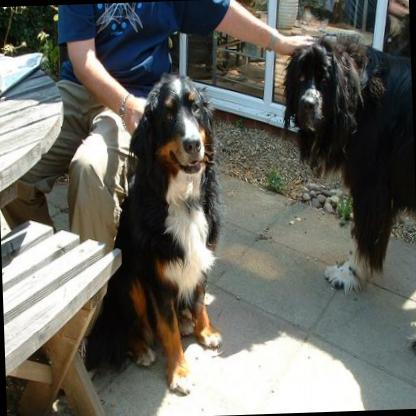Bernese_mountain_dog: (281, 33, 416, 362), (95, 72, 222, 396)
